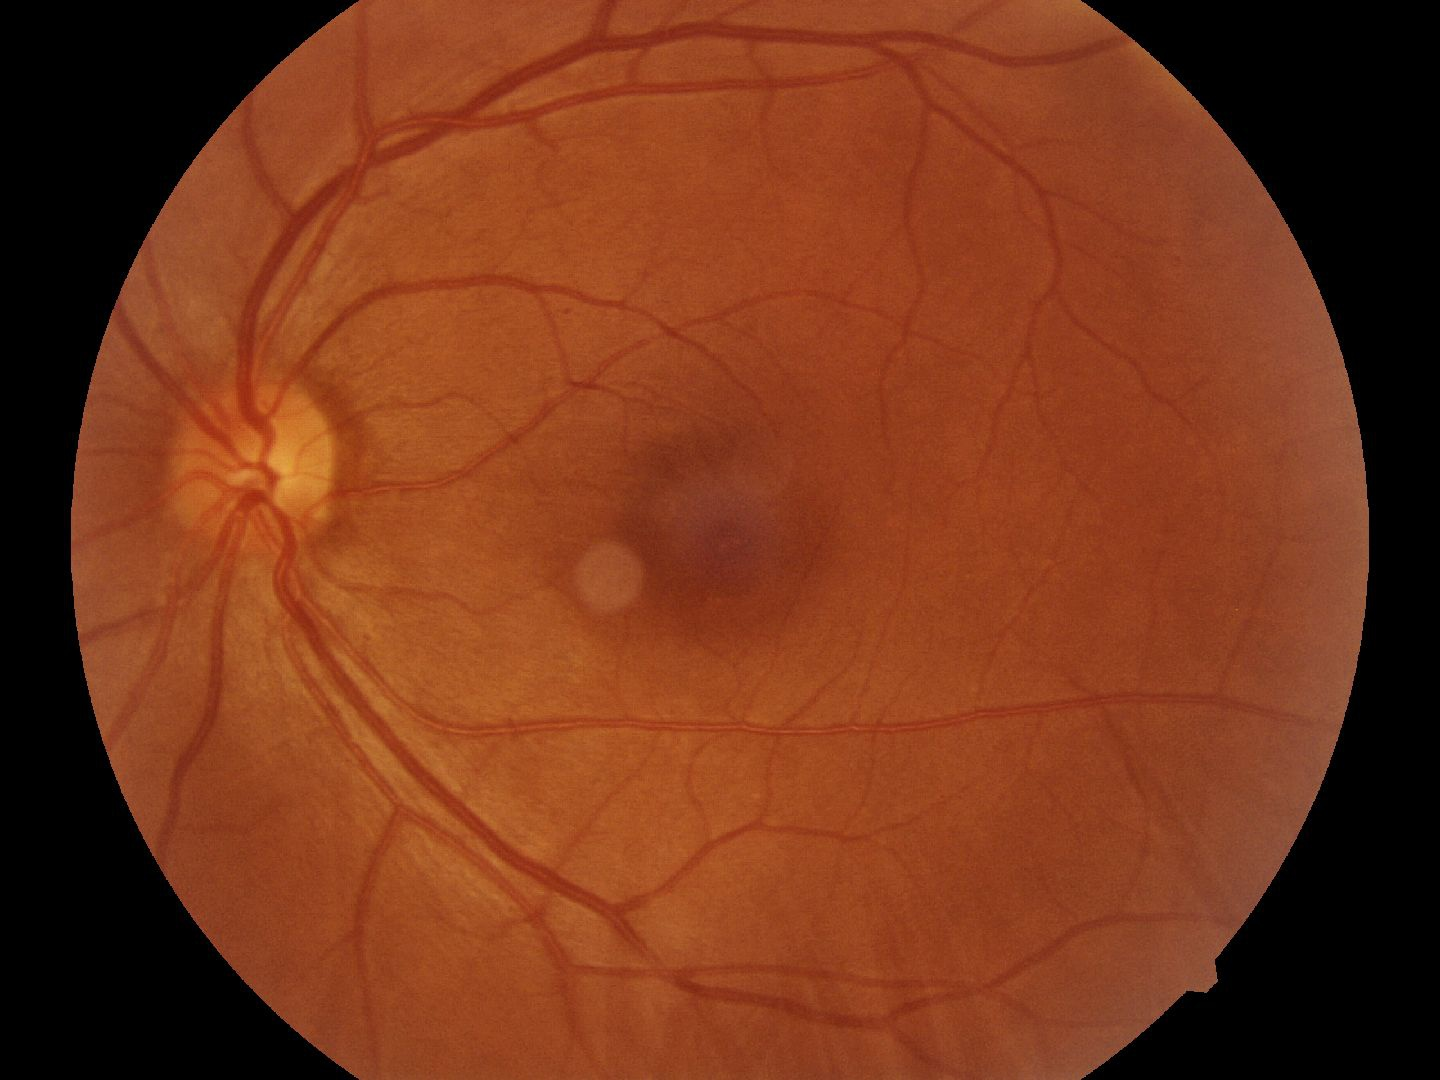Hemorrhages: (636, 412, 825, 631)
Optic-Disc: (164, 347, 357, 560)
Venules: (254, 43, 549, 265), (312, 631, 517, 886)
